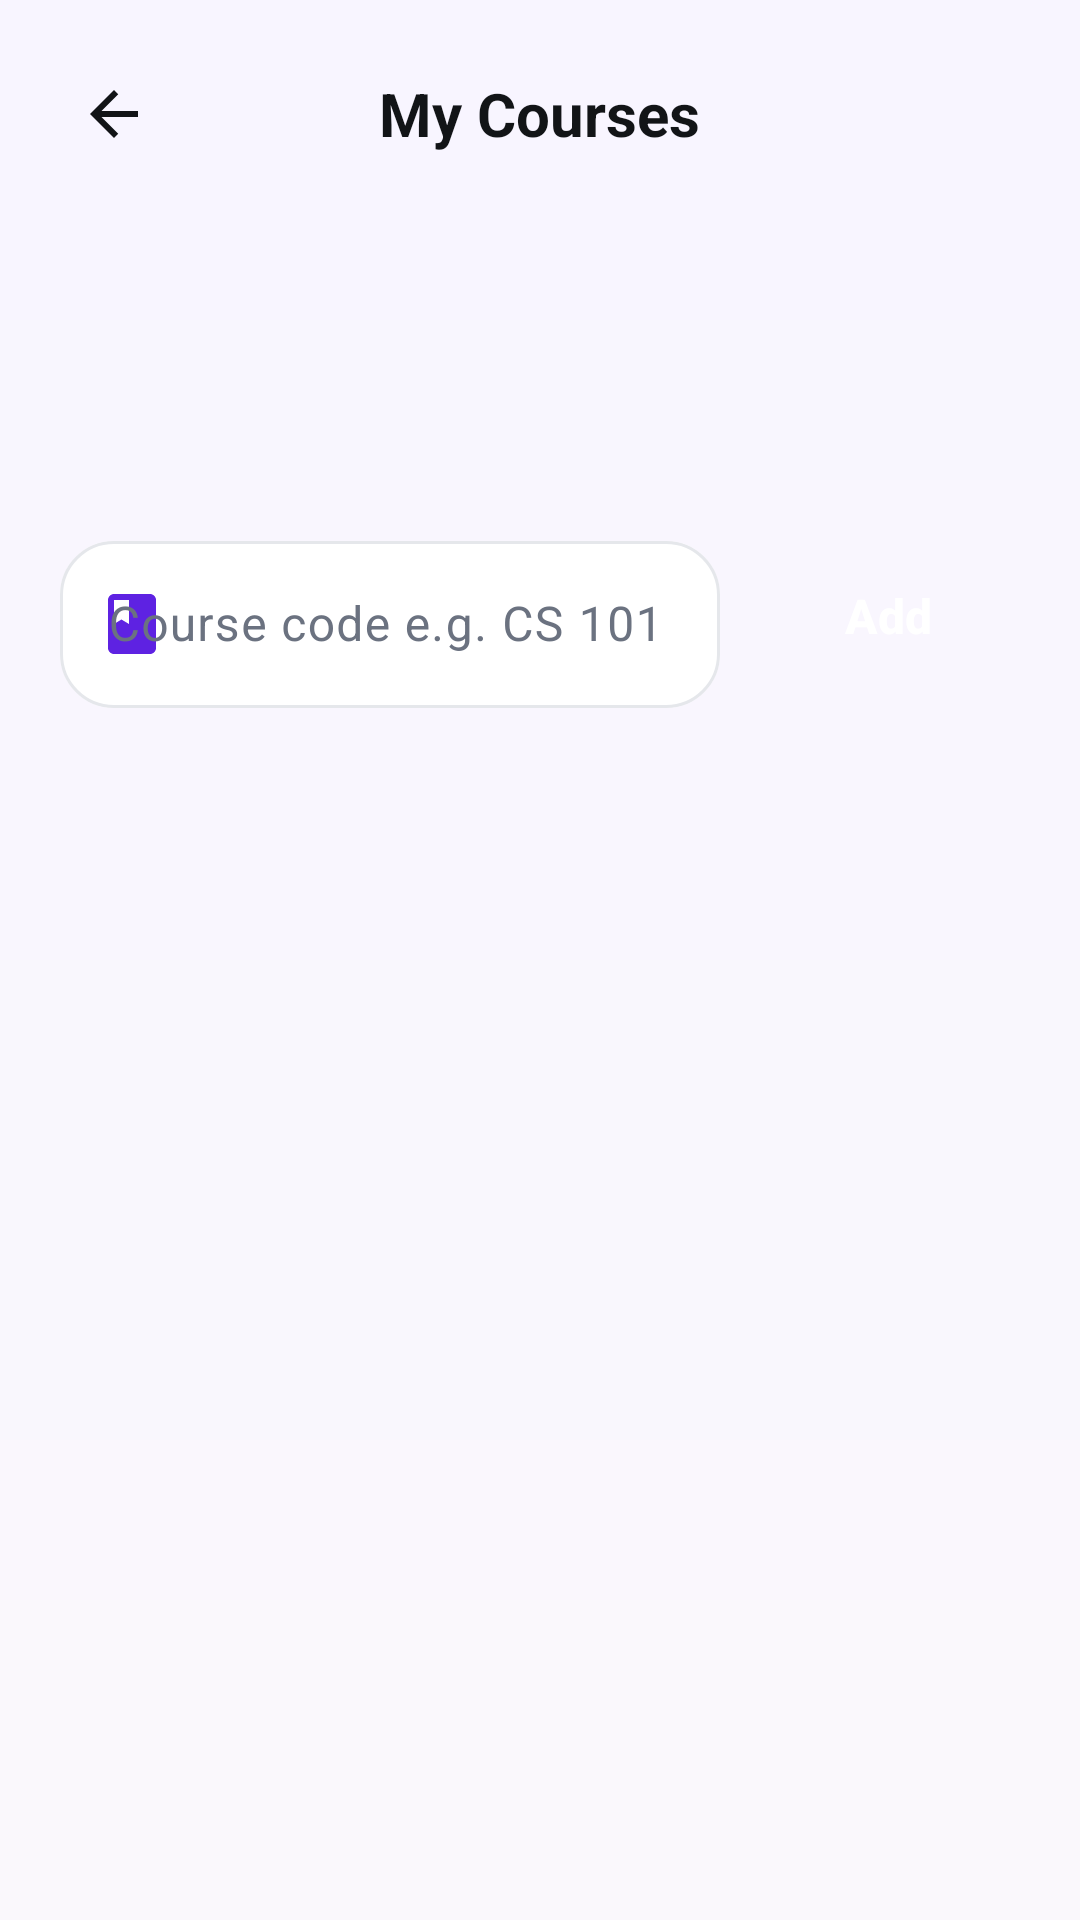

Icon click points for this 1080 × 1920 phone screenshot, format [x,y]:
Back: [114,114]
